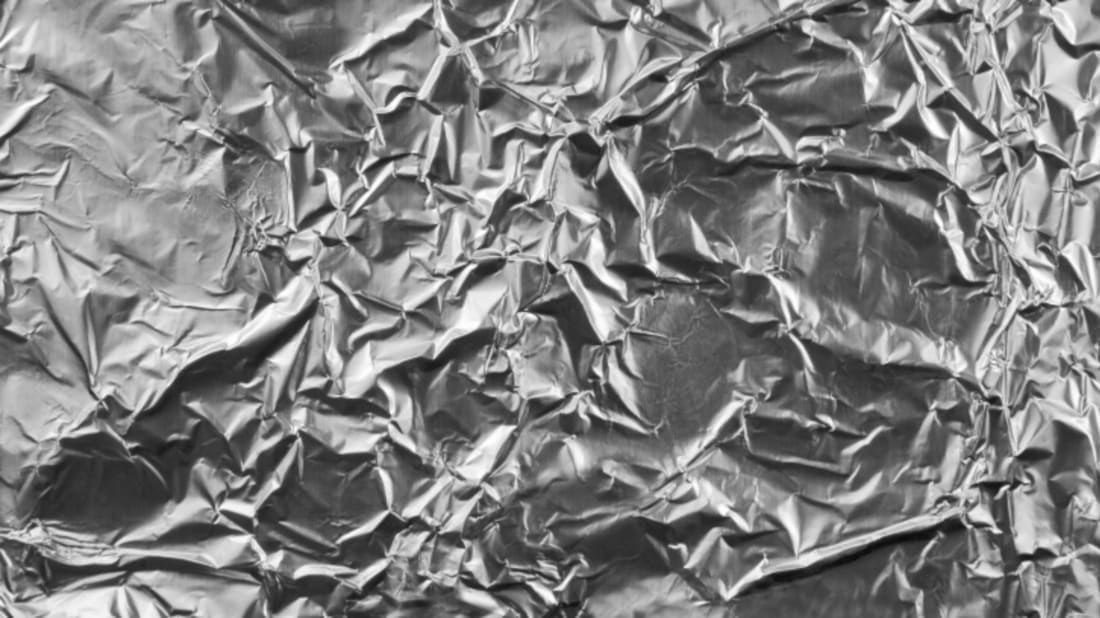metal: (30, 31, 1096, 593)
